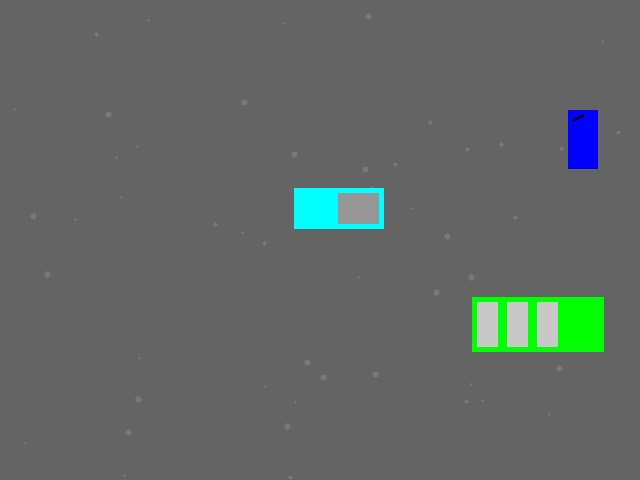bus: (472, 297, 603, 351)
motorcycle: (568, 110, 597, 168)
truck: (294, 188, 383, 228)
